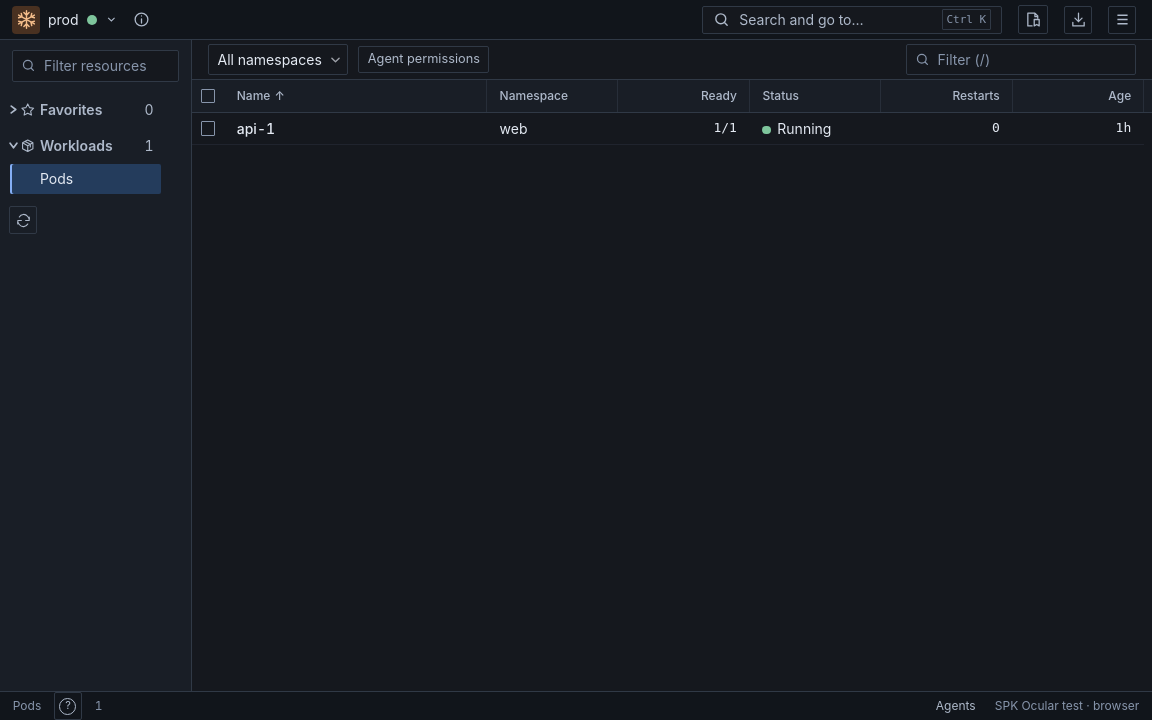
it: values in the details › another tab hides a shown value; coming back it is not shown
Click the text "api-1" at [256, 128], box [237,120,275,137]
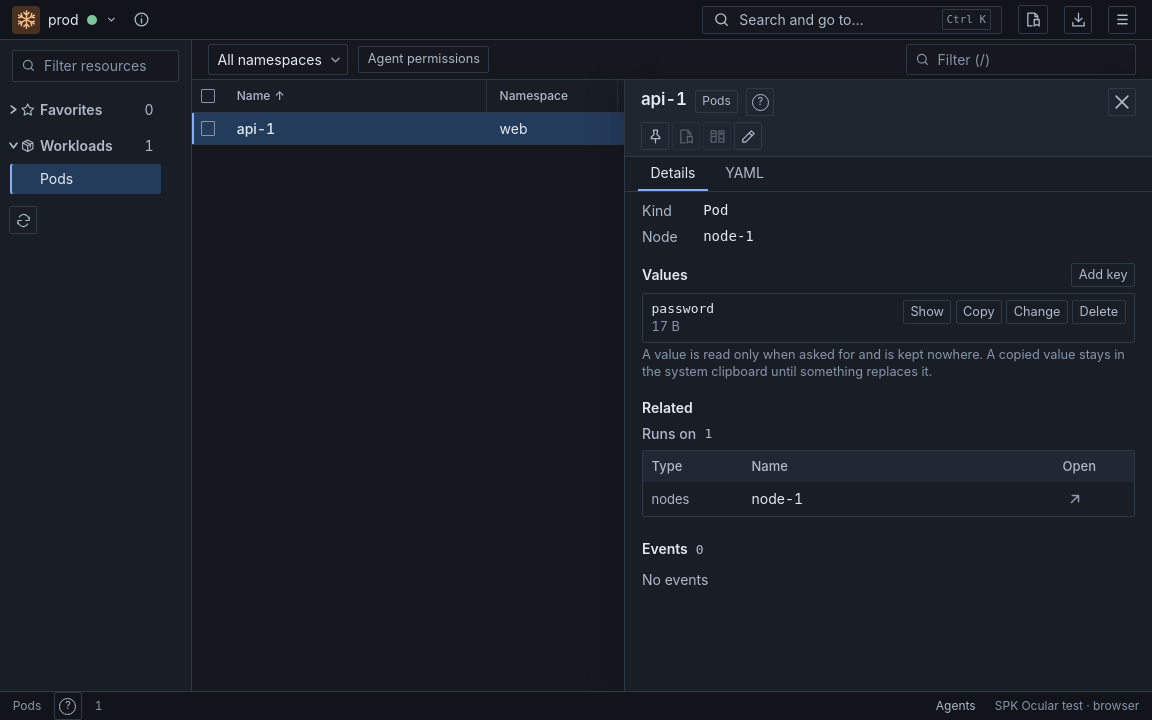
Result: the text "password" is shown at [652,301,714,316]
Click the button "Show" at [927, 312], box [903,300,951,324]
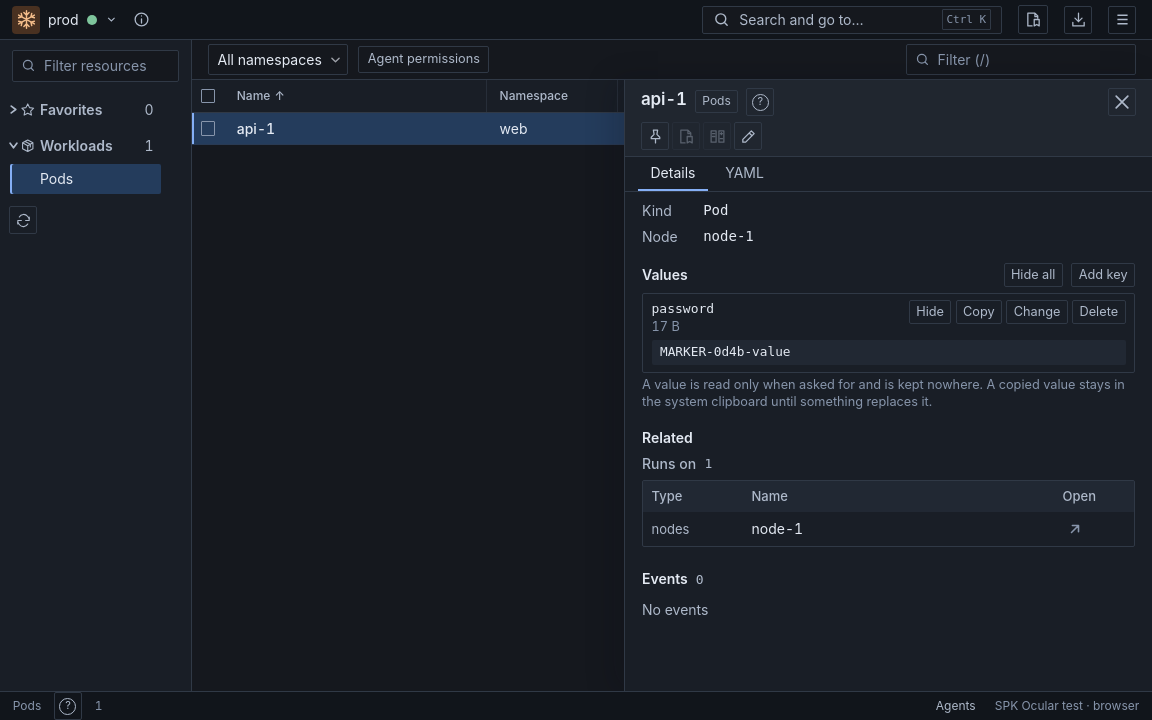
Result: the text "MARKER-0d4b-value" is shown at [652,340,1126,365]
Click the tab "YAML" at [745, 174], box [712,157,777,191]
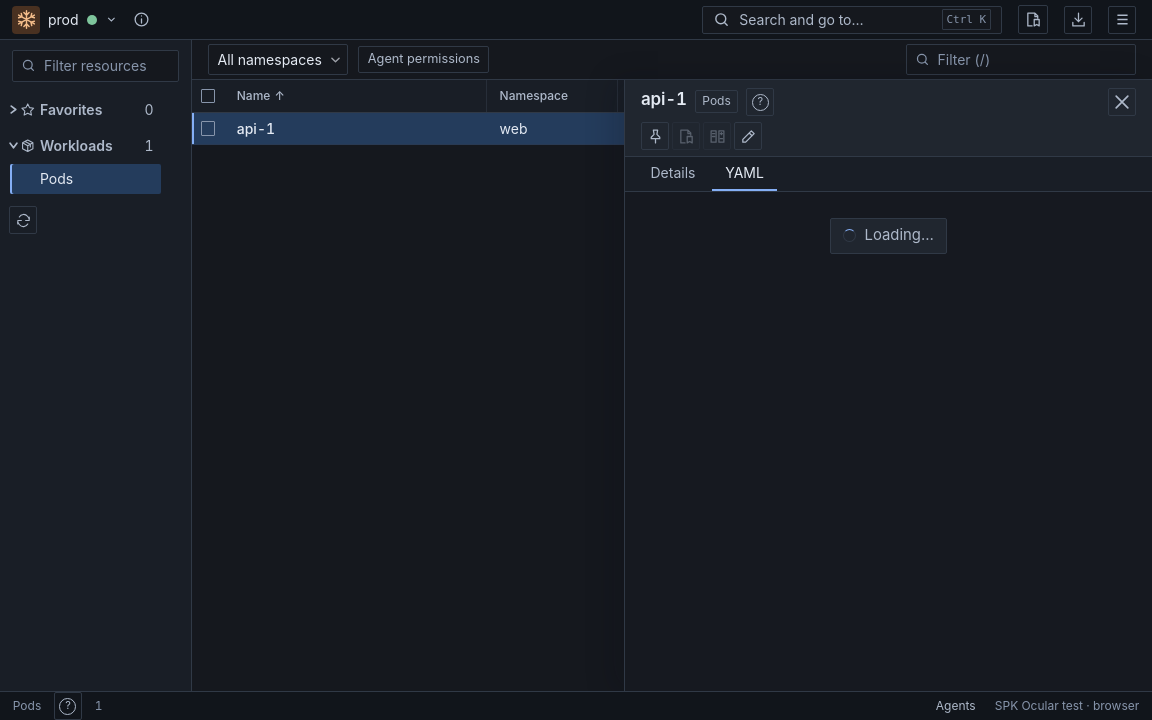
Result: the dialog named "pods api-1" no longer shows "MARKER-0d4b-value" at [624,80,1151,691]
Click the tab "Details" at [673, 174], box [638,157,708,191]
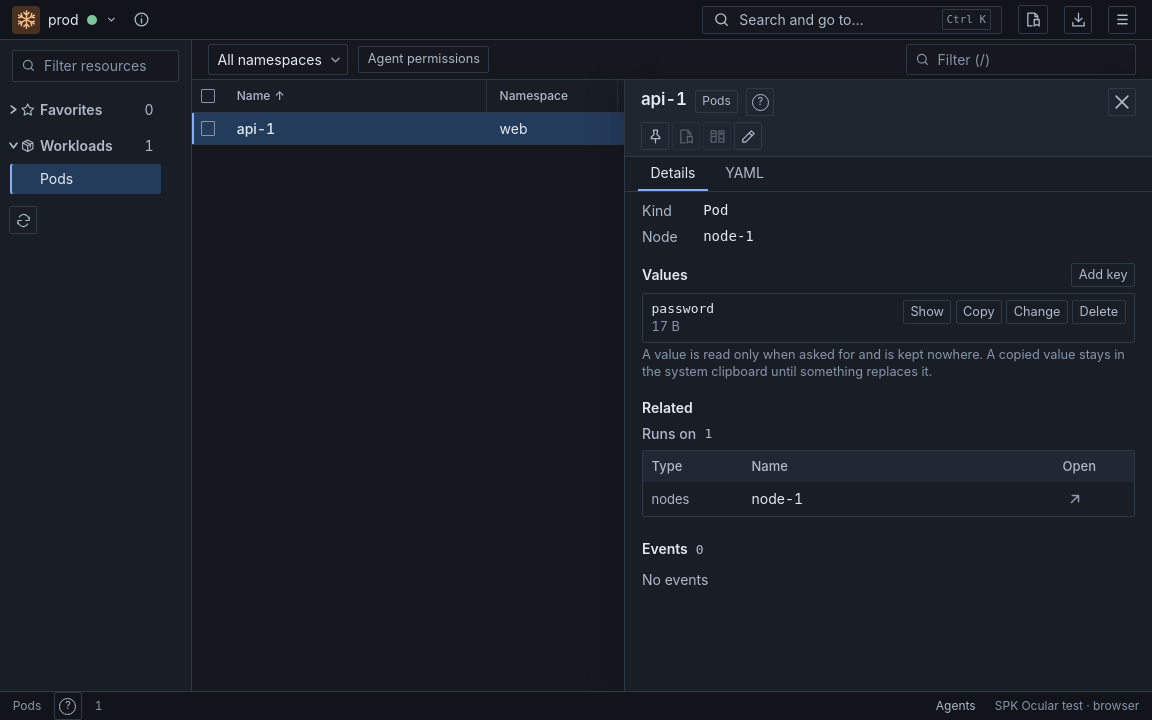
Result: the dialog named "pods api-1" does not show "MARKER-0d4b-value" at [624,80,1151,691]
Result: the text "password" is shown at [652,301,714,316]
